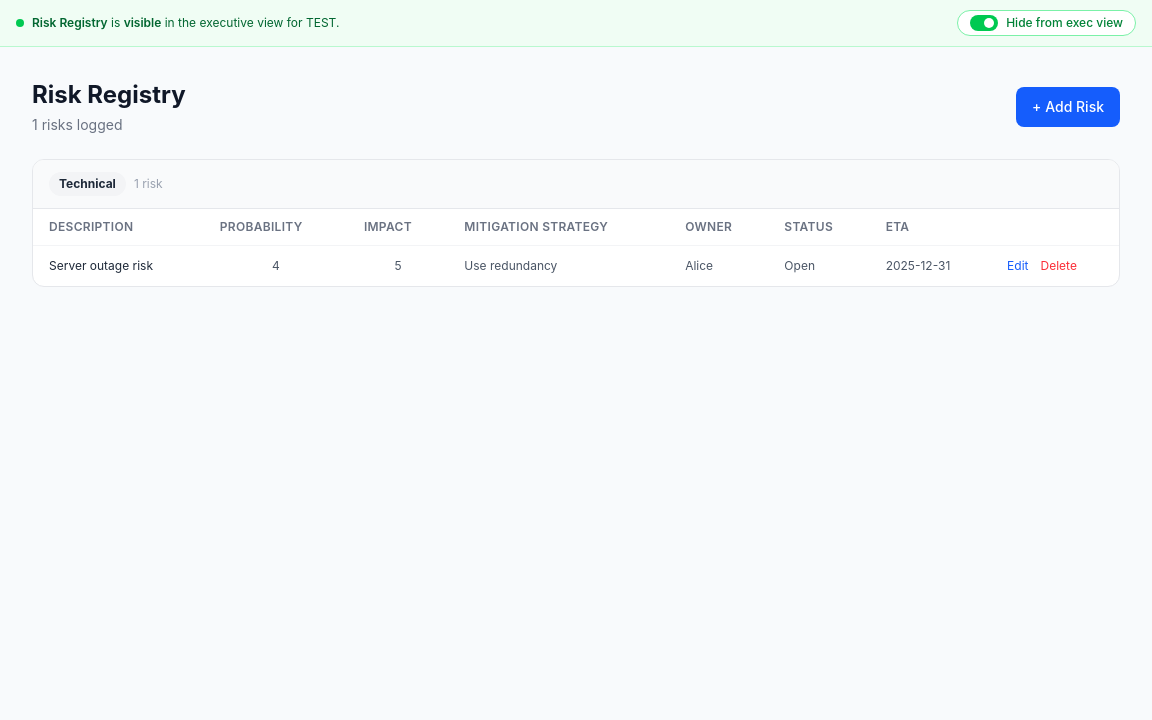
Test: RiskEditor › T-26.04: Edit button opens modal pre-populated with existing risk data
expect the text "Server outage risk" is shown: met, box [33,246,204,286]
Click the button "Edit": (1018, 266) [1007,258,1028,274]
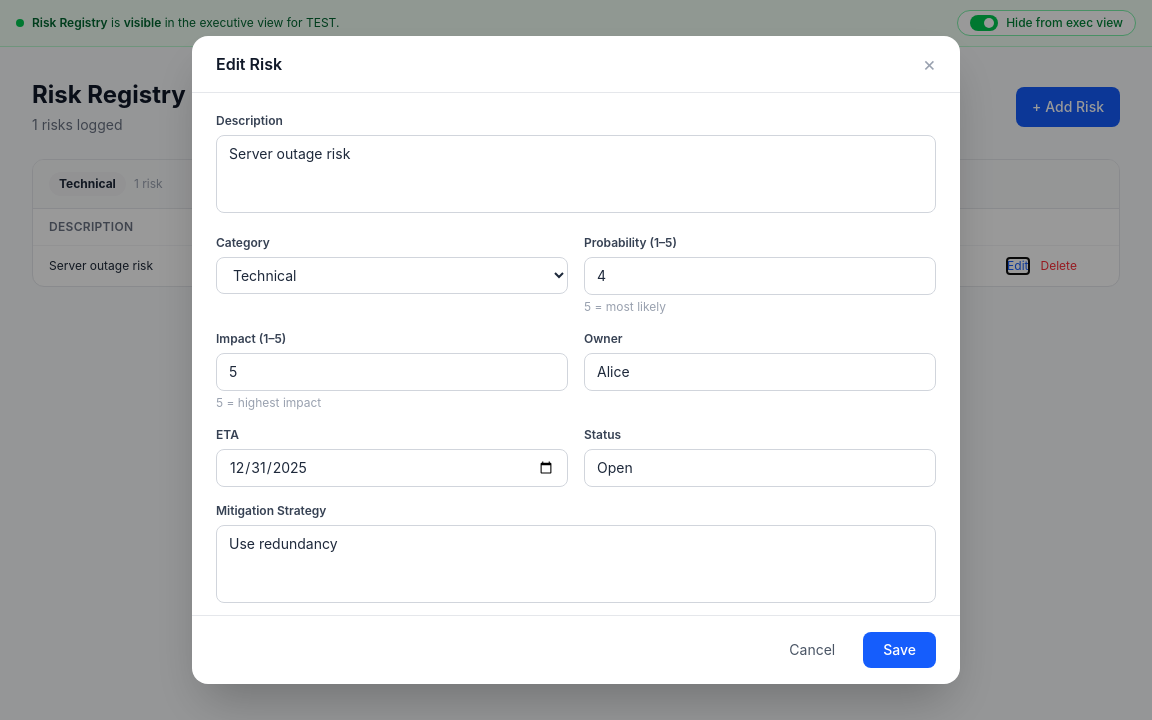
expect the heading "Edit Risk" is shown: met, box [216,52,282,76]
expect the 1st text box showing "Server outage risk" is shown: met, box [216,135,936,213]
